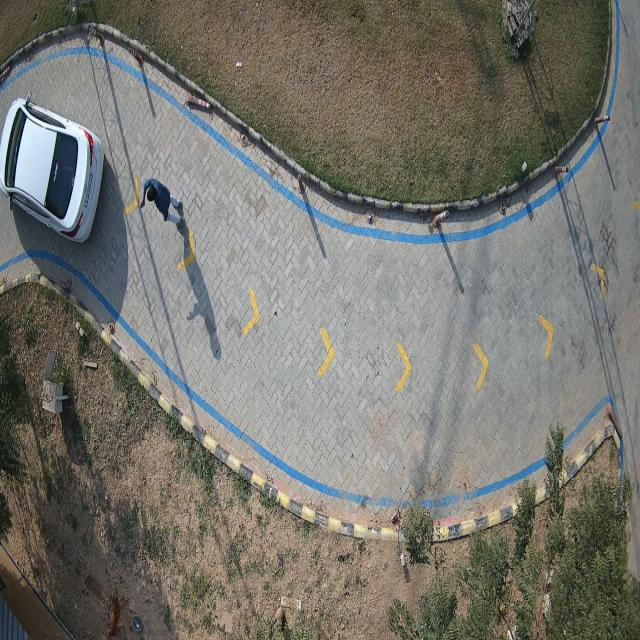car: (0, 99, 104, 244)
